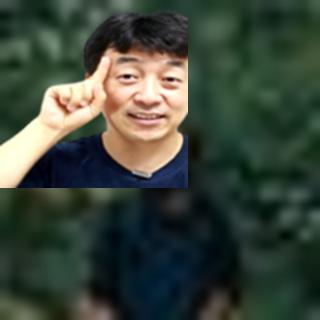IRRITATED: (37, 54, 114, 135)
